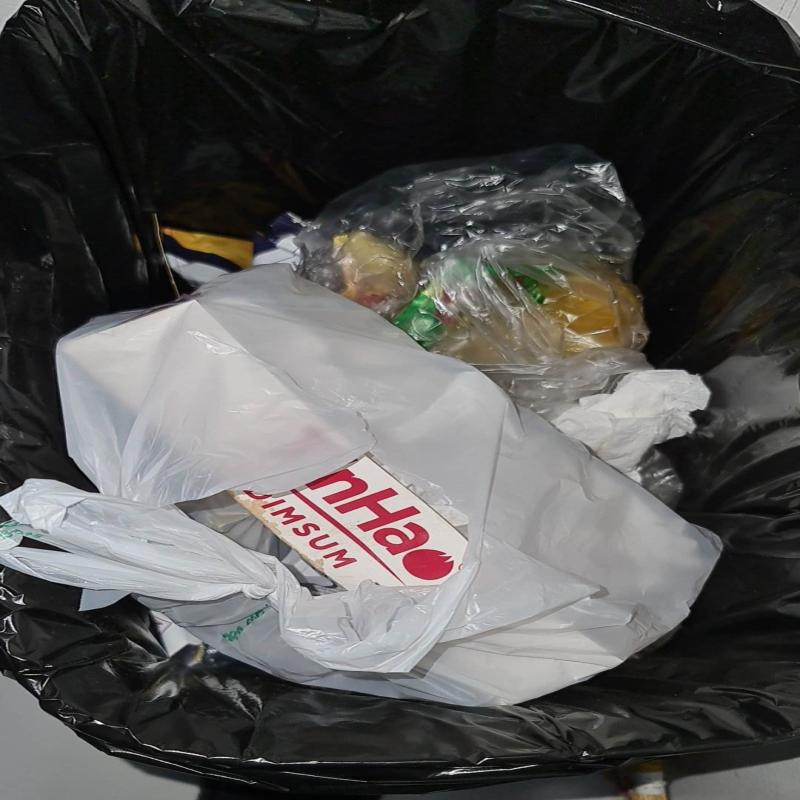cardboard: (229, 456, 468, 591)
food wrapper: (161, 215, 308, 286)
plastic bag: (0, 267, 724, 710)
